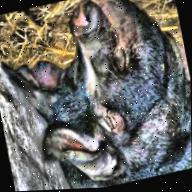boar: (40, 0, 192, 180)
